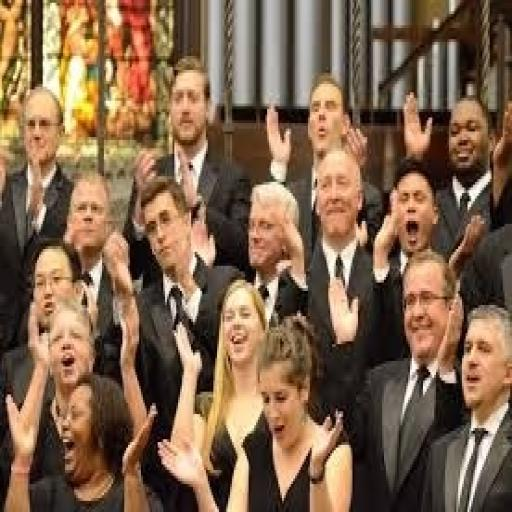clapping: (2, 54, 508, 506)
